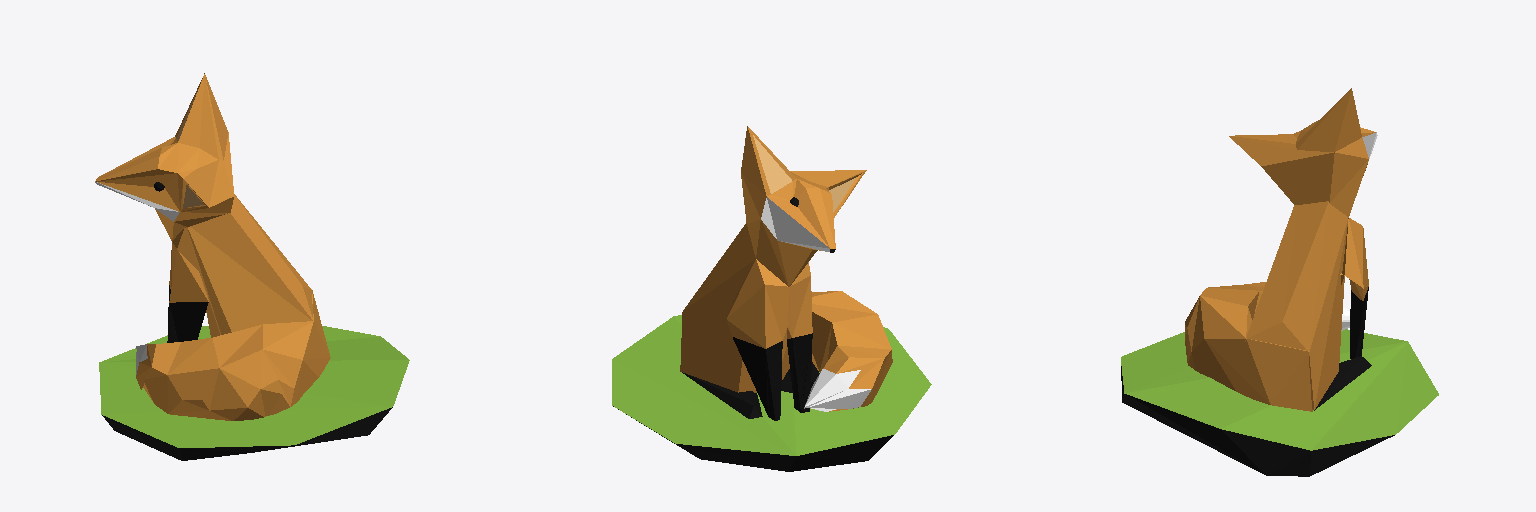
The picture shows the model from 3 angles: view 1: azimuth 30°, elevation 25°; view 2: azimuth 150°, elevation 25°; view 3: azimuth 270°, elevation 25°; orthographic projection.
Parts seen in each view (by area): view 1: group[number redacted], group[number redacted], group[number redacted], group[number redacted]; view 2: group[number redacted], group[number redacted], group[number redacted], group[number redacted]; view 3: group[number redacted], group[number redacted], group[number redacted], group[number redacted].
Part boxes in pixels (x1,y1,x2,y2): group[number redacted]: (99, 326, 409, 460); group[number redacted]: (136, 289, 330, 420); group[number redacted]: (167, 194, 312, 342); group[number redacted]: (95, 73, 233, 240); group[number redacted]: (612, 315, 931, 471); group[number redacted]: (680, 223, 819, 420); group[number redacted]: (741, 126, 866, 286); group[number redacted]: (804, 291, 892, 411); group[number redacted]: (1121, 329, 1438, 476); group[number redacted]: (1245, 201, 1371, 410); group[number redacted]: (1185, 282, 1349, 411); group[number redacted]: (1229, 88, 1377, 216).
Bounding box in the file's own units: 1.27 × 1.38 × 1.24.